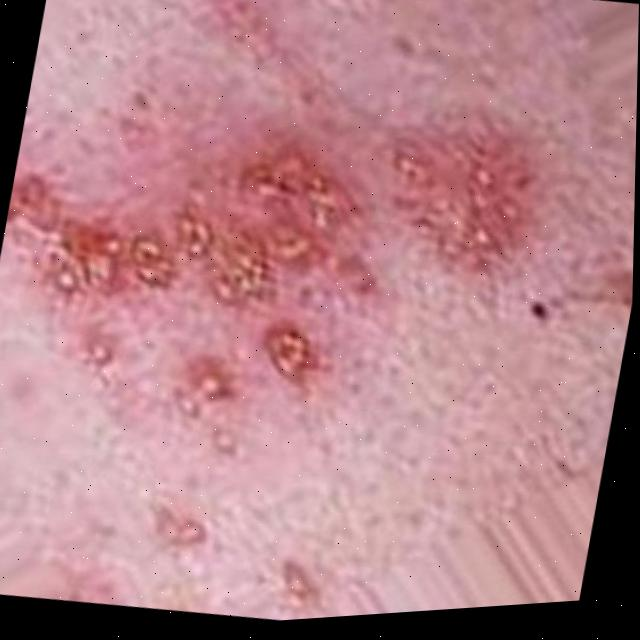Shingles: (0, 38, 555, 471)
